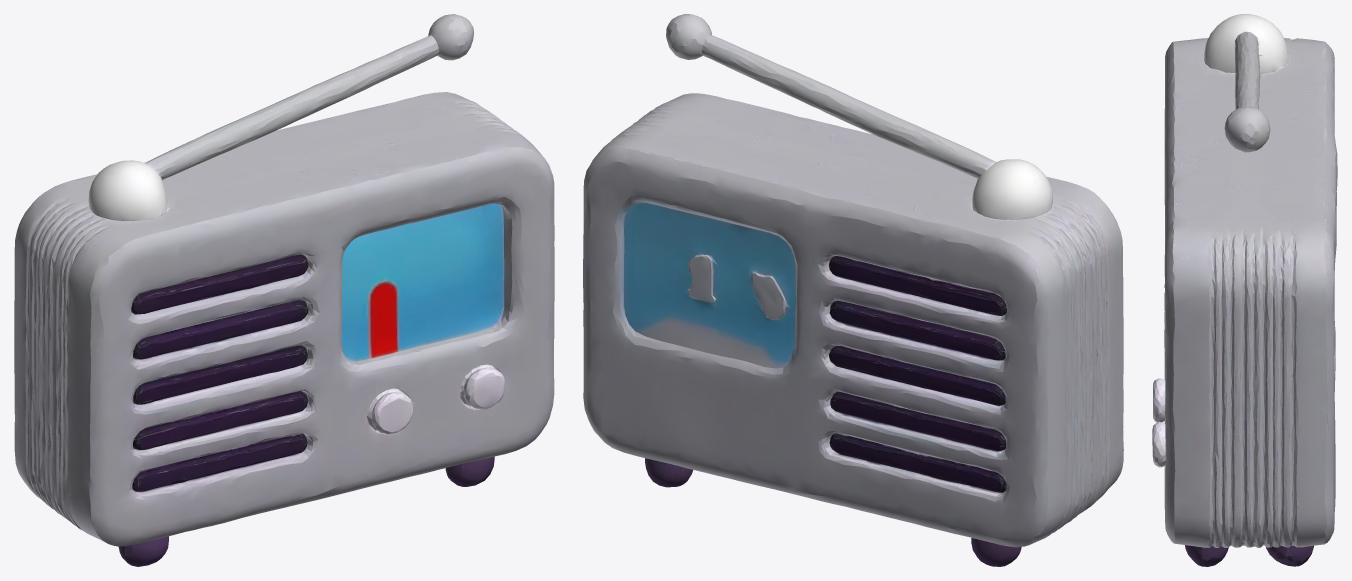
The model's file is radio.glb.
The picture shows the model from 3 angles, left to right: view 1: azimuth 30°, elevation 25°; view 2: azimuth 150°, elevation 25°; view 3: azimuth 270°, elevation 25°; orthographic projection.
Parts seen in each view (by area): view 1: Mesh; view 2: Mesh; view 3: Mesh.
Boxes of the visible parts, x1=… form: Mesh: x1=14, y1=14, x2=554, y2=566; Mesh: x1=583, y1=14, x2=1123, y2=566; Mesh: x1=1152, y1=14, x2=1337, y2=566.
Size of the model in its own units: 1 by 0.9143 by 0.3359.
Materials: 1 (1 with a texture image).
